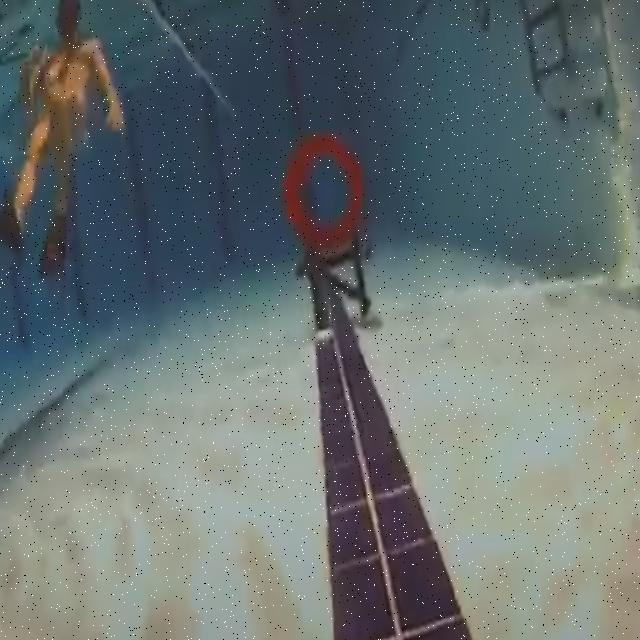Circle: (281, 130, 364, 248)
